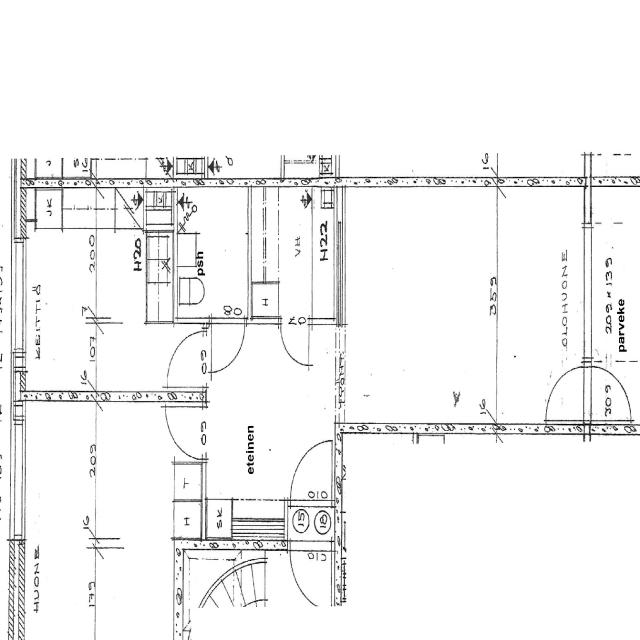door: (290, 539, 330, 607), (290, 442, 331, 506), (545, 366, 591, 420), (584, 366, 630, 420), (163, 331, 206, 387), (165, 406, 206, 459), (211, 318, 244, 370), (280, 317, 309, 363)
